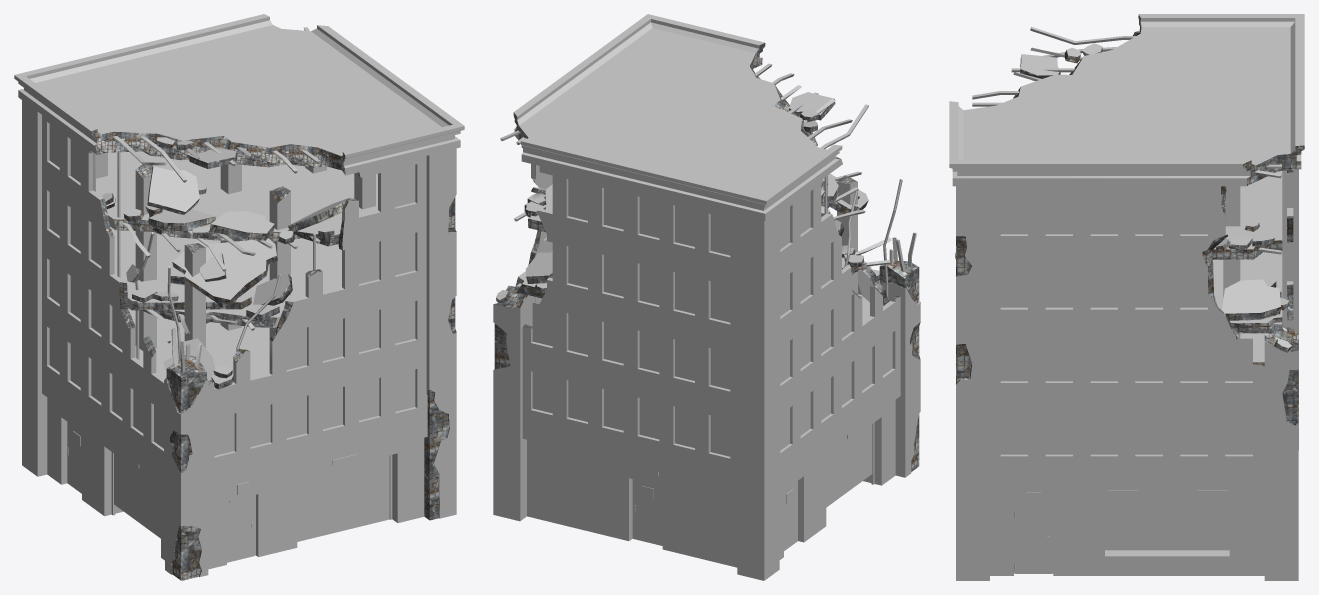
File: Build1_LOD1.fbx
The picture shows the model from 3 angles, left to right: view 1: azimuth 30°, elevation 25°; view 2: azimuth 150°, elevation 25°; view 3: azimuth 270°, elevation 25°; orthographic projection. The views are drawn at different scales.
Parts seen in each view (by area): view 1: polySurface1539; view 2: polySurface1539; view 3: polySurface1539.
Part boxes in pixels (x1,y1,x2,y2): polySurface1539: [14, 14, 464, 580]; polySurface1539: [493, 14, 920, 580]; polySurface1539: [949, 14, 1304, 580].
Bounding box in the file's own units: 10.1 × 13.16 × 10.1.
